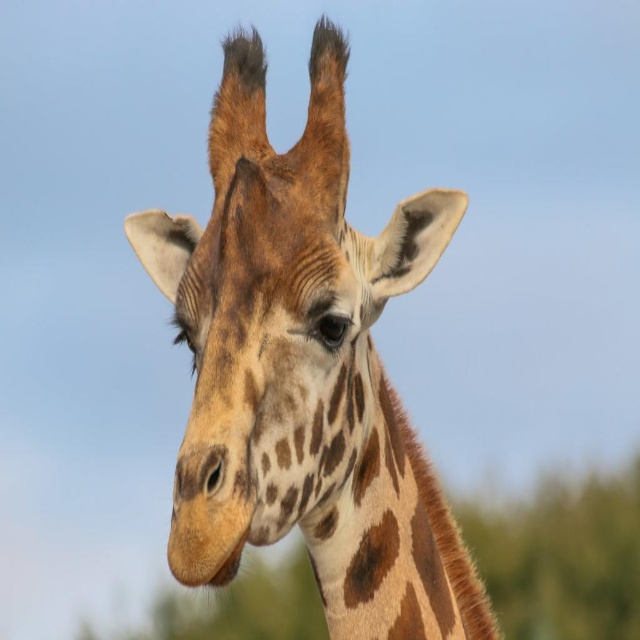Giraffe: (112, 40, 516, 640)
